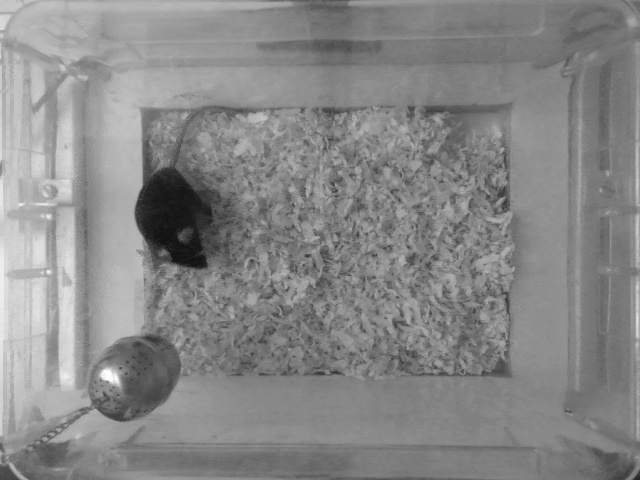mice: (132, 102, 222, 272)
